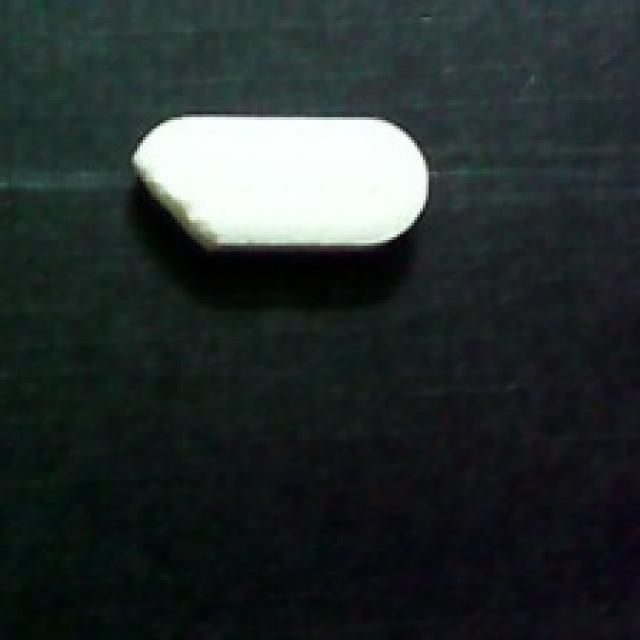defected: (126, 109, 437, 254)
